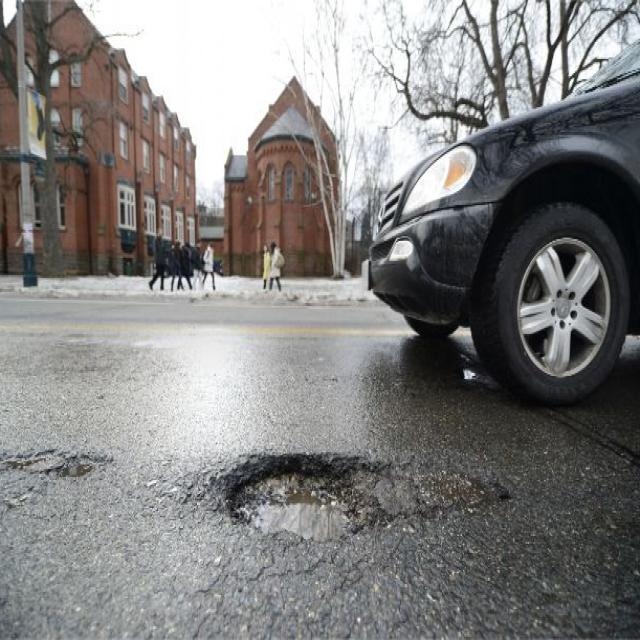pothole: (218, 436, 505, 547)
